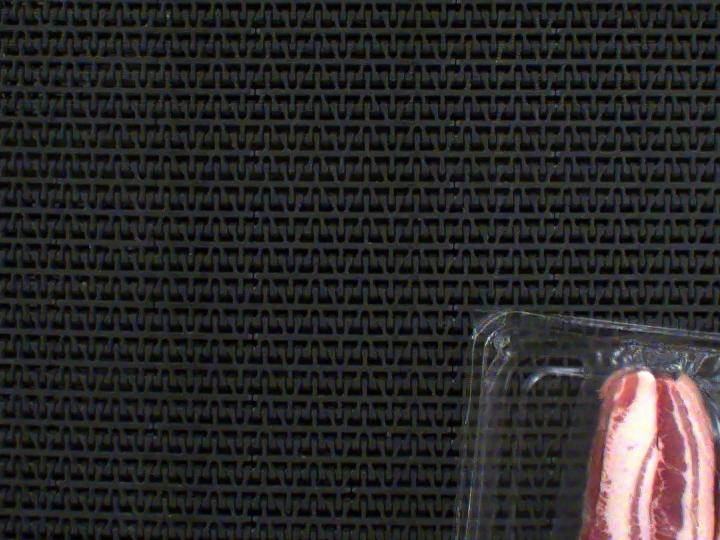unsealed: (570, 333, 720, 512)
